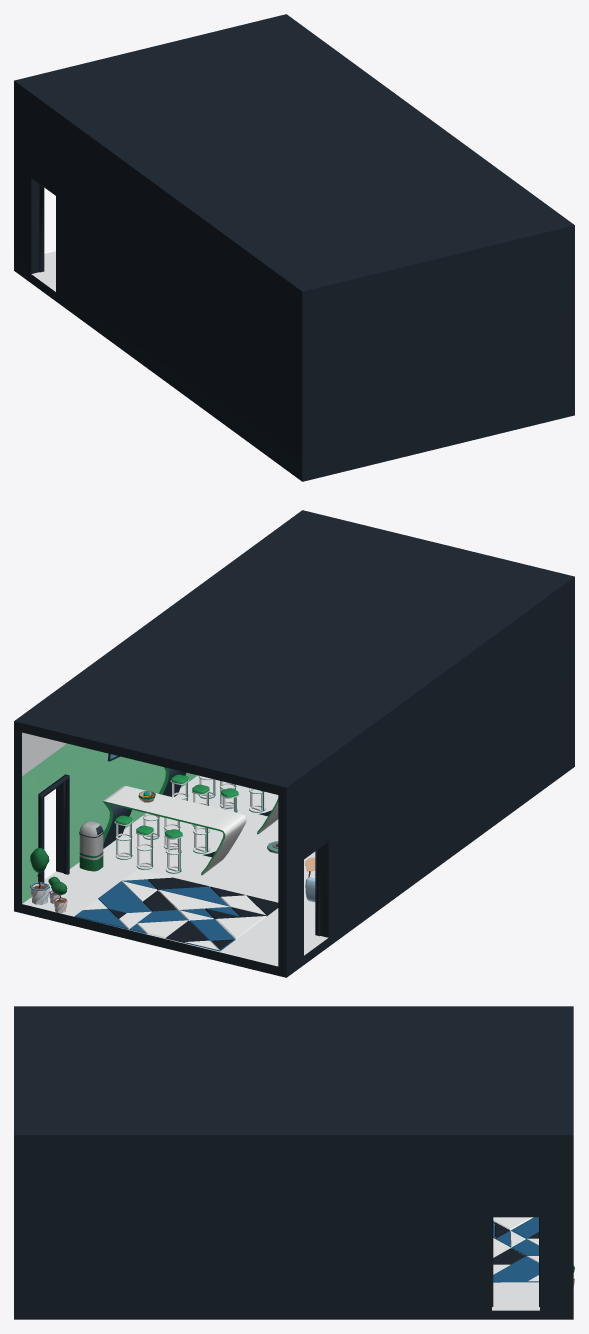
Rendered from Room_rest_003.fbx.
3 views of the same model, one above another, from view 1: azimuth 30°, elevation 25°; view 2: azimuth 150°, elevation 25°; view 3: azimuth 270°, elevation 25° (orthographic). The views are drawn at different scales.
Parts seen in each view (by area): view 1: Room_Tiny_001.002; view 2: Room_Tiny_001.002; view 3: Room_Tiny_001.002.
Part boxes in pixels (x1=…): Room_Tiny_001.002: x1=14, y1=14, x2=574, y2=481; Room_Tiny_001.002: x1=14, y1=510, x2=574, y2=977; Room_Tiny_001.002: x1=14, y1=1006, x2=574, y2=1319.
Size of the model in its own units: 600 by 400 by 1103.
